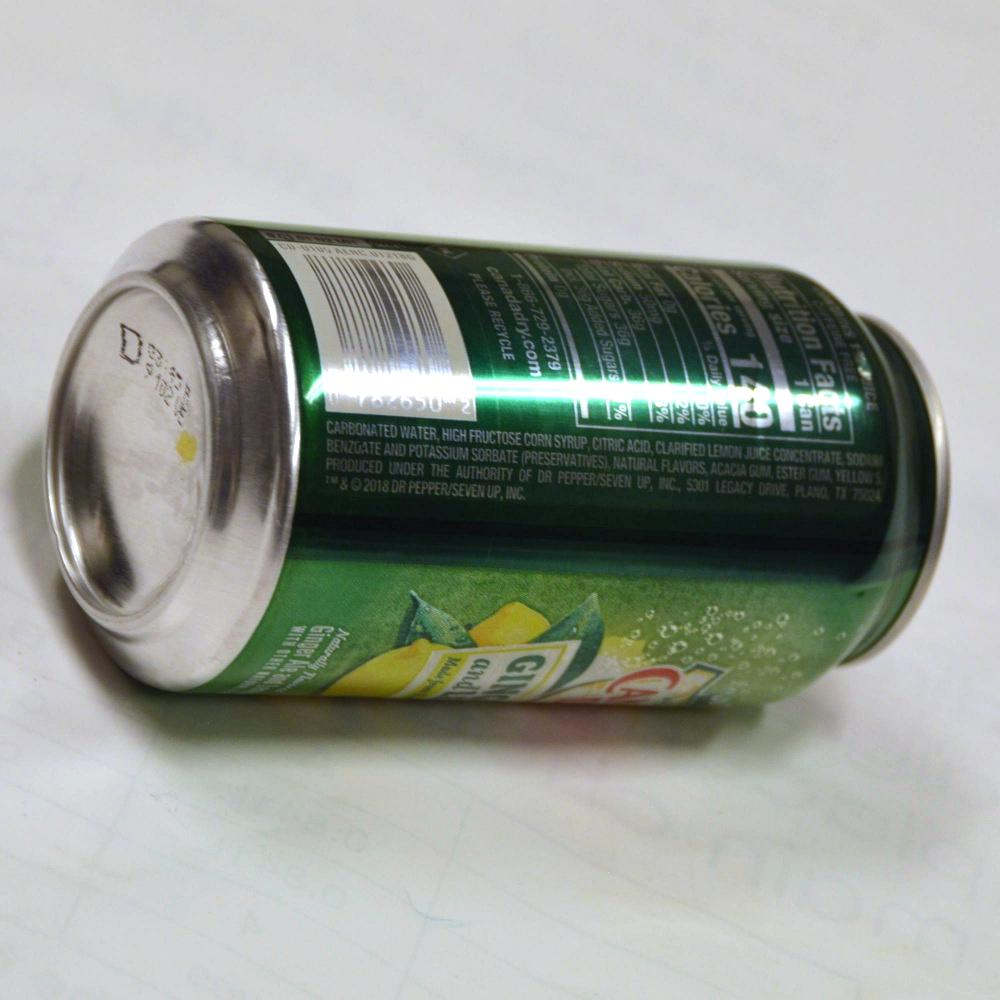Metal: (13, 170, 988, 800)
